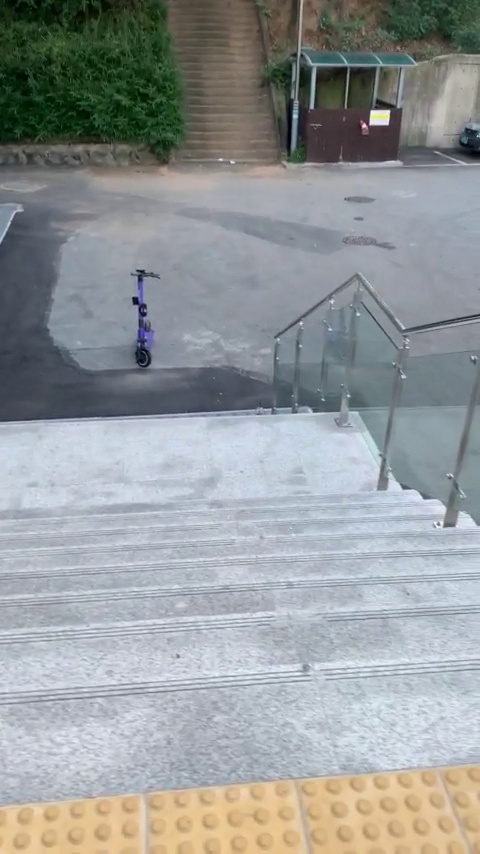beam: (120, 266, 170, 377)
